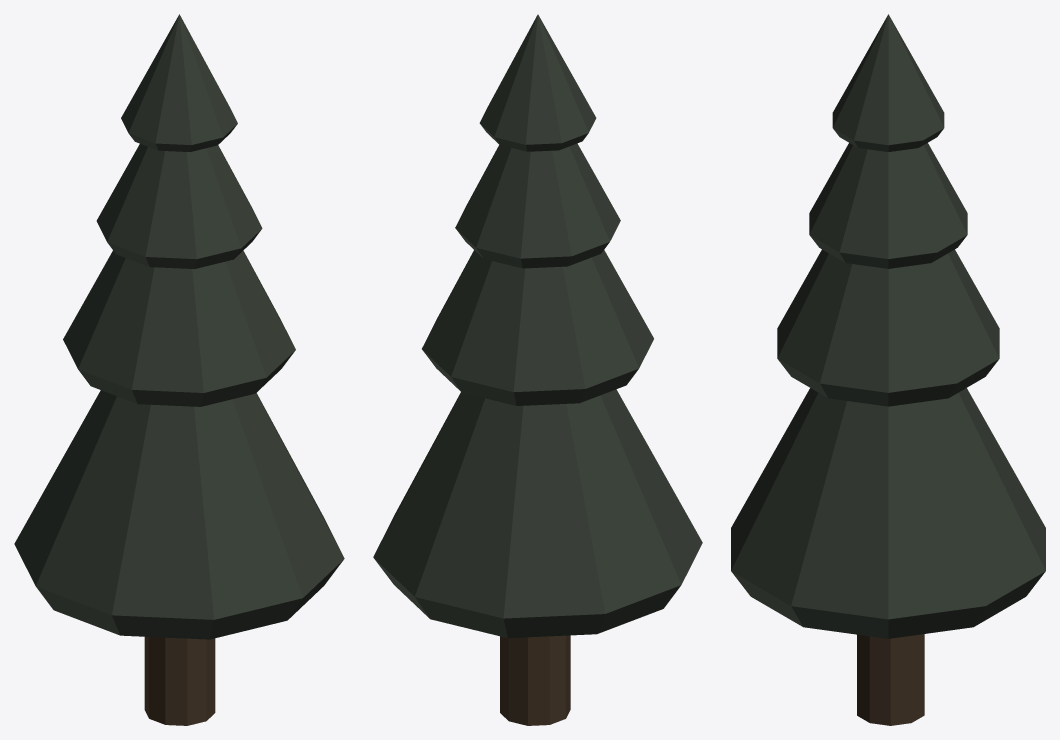
The model's file is Tree 4.fbx.
The picture shows the model from 3 angles, left to right: view 1: azimuth 30°, elevation 25°; view 2: azimuth 150°, elevation 25°; view 3: azimuth 270°, elevation 25°; orthographic projection.
Visible parts, largest first — view 1: polySurface1654; view 2: polySurface1654; view 3: polySurface1654.
Boxes of the visible parts, bbox=[...] form: polySurface1654: bbox=[14, 14, 344, 725]; polySurface1654: bbox=[373, 14, 702, 725]; polySurface1654: bbox=[731, 14, 1045, 725].
Bounding box in the file's own units: 26.05 × 60.44 × 24.78.
